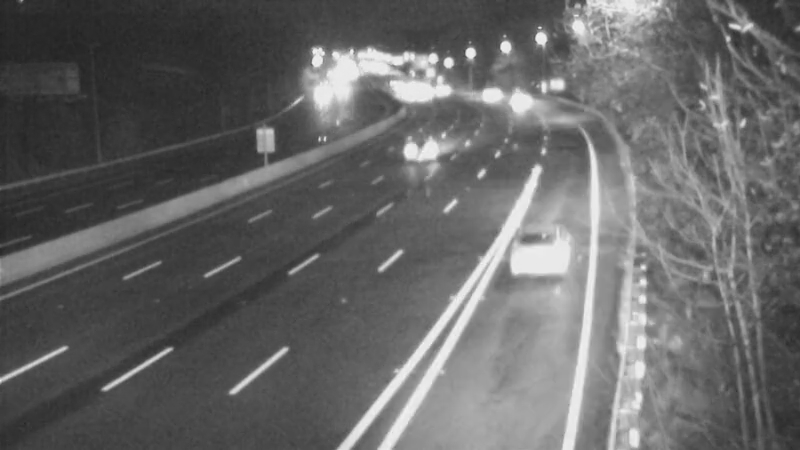vehicle: (380, 115, 460, 195), (514, 207, 594, 287), (461, 64, 511, 114), (494, 68, 544, 118)
